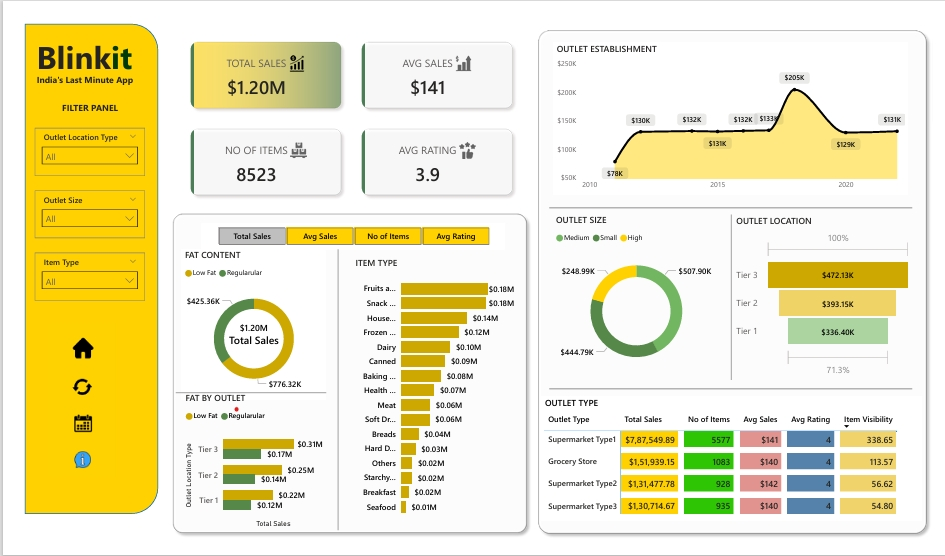

Layout of this report page (visuals, bound fields, positions):
{"tool":"powerbi","page":{"name":"Page 1","canvas":[1400,800],"ordinal":0},"visuals":[{"type":"shape","box":[10.5,10.5,204.1,750.4],"z":0},{"type":"textbox","box":[24,22.5,169.6,75],"z":1000},{"type":"textbox","box":[24,82.5,175.6,28.5],"z":2000},{"type":"cardVisual","fields":{"Data":["BlinkIT Grocery Data.Total Sales","BlinkIT Grocery Data.Avg Sales","BlinkIT Grocery Data.No of Items","BlinkIT Grocery Data.Avg Rating"]},"box":[248.1,21.8,527.6,269.9],"z":3000},{"type":"shape","box":[229,293.1,559,505.8],"z":4000},{"type":"donutChart","title":"FAT CONTENT","fields":{"Y":["BlinkIT Grocery Data.Total Sales"],"Category":["BlinkIT Grocery Data.Item Fat Content"]},"box":[250.7,356,221,229.9],"z":5000},{"type":"slicer","fields":{"Values":["Metrics.Metrics"]},"box":[281.8,316,464.3,40.1],"z":6000},{"type":"cardVisual","fields":{"Data":["BlinkIT Grocery Data.Total Sales"]},"box":[304.1,449.5,115.7,66.8],"z":7000},{"type":"clusteredBarChart","title":"FAT BY OUTLET","fields":{"Y":["BlinkIT Grocery Data.Total Sales"],"Category":["BlinkIT Grocery Data.Outlet Location Type"],"Series":["BlinkIT Grocery Data.Item Fat Content"]},"box":[252.2,575.3,219.5,211.3],"z":8000},{"type":"shape","box":[241.8,544.4,229.9,62.3],"z":9000},{"type":"shape","box":[446.5,356,89,430.2],"z":10000},{"type":"barChart","title":"ITEM TYPE","fields":{"Y":["BlinkIT Grocery Data.Total Sales"],"Category":["BlinkIT Grocery Data.Item Type"]},"box":[511.8,367.9,253.7,405],"z":11000},{"type":"shape","box":[788,12.3,612.1,788],"z":12000},{"type":"lineChart","title":"OUTLET ESTABLISHMENT","fields":{"Category":["BlinkIT Grocery Data.Outlet Establishment Year"],"Y":["BlinkIT Grocery Data.Total Sales"]},"box":[820.3,40.1,542.9,234.4],"z":13000},{"type":"shape","box":[813.9,261.8,554.9,61.4],"z":14000},{"type":"donutChart","title":"OUTLET SIZE","fields":{"Y":["BlinkIT Grocery Data.Total Sales"],"Category":["BlinkIT Grocery Data.Outlet Size"]},"box":[818.5,302.1,256.3,253.6],"z":15000},{"type":"shape","box":[1048.4,302.7,88.6,253.6],"z":16000},{"type":"funnel","title":"OUTLET LOCATION","fields":{"Category":["BlinkIT Grocery Data.Outlet Location Type"],"Y":["BlinkIT Grocery Data.Total Sales"]},"box":[1094.8,302.7,276.8,253.6],"z":17000},{"type":"shape","box":[813.9,538.5,554.9,61.4],"z":18000},{"type":"pivotTable","title":"OUTLET TYPE","fields":{"Values":["BlinkIT Grocery Data.Total Sales","BlinkIT Grocery Data.No of Items","BlinkIT Grocery Data.Avg Sales","BlinkIT Grocery Data.Avg Rating","Sum(BlinkIT Grocery Data.Item Visibility)"],"Rows":["BlinkIT Grocery Data.Outlet Type"]},"box":[801.6,582.1,582.1,190.9],"z":19000},{"type":"slicer","fields":{"Values":["BlinkIT Grocery Data.Outlet Location Type"]},"box":[25.6,170.1,169.1,73.6],"z":20000},{"type":"slicer","fields":{"Values":["BlinkIT Grocery Data.Outlet Size"]},"box":[25.6,265.6,169.1,73.6],"z":21000},{"type":"slicer","fields":{"Values":["BlinkIT Grocery Data.Item Type"]},"box":[25.6,361,169.1,73.6],"z":22000},{"type":"textbox","box":[62.7,125.4,152.7,32.7],"z":23000},{"type":"image","box":[43.6,436.3,299.9,299.9],"z":23001}]}

Visuals, with their boxes in screenshot pixels (x1, y1, x2, y2), scaled from the page's 1400x800 canvas onto the 945x556 screenshot:
shape: locate(7, 7, 145, 529)
textbox: locate(16, 16, 131, 68)
textbox: locate(16, 57, 135, 77)
cardVisual - BlinkIT Grocery Data.Total Sales x BlinkIT Grocery Data.Avg Sales: locate(167, 15, 524, 203)
shape: locate(155, 204, 532, 555)
"FAT CONTENT" donutChart: locate(169, 247, 318, 407)
slicer - Metrics.Metrics: locate(190, 220, 504, 247)
cardVisual - BlinkIT Grocery Data.Total Sales: locate(205, 312, 283, 359)
"FAT BY OUTLET" clusteredBarChart: locate(170, 400, 318, 547)
shape: locate(163, 378, 318, 422)
shape: locate(301, 247, 361, 546)
"ITEM TYPE" barChart: locate(345, 256, 517, 537)
shape: locate(532, 9, 944, 555)
"OUTLET ESTABLISHMENT" lineChart: locate(554, 28, 920, 191)
shape: locate(549, 182, 924, 225)
"OUTLET SIZE" donutChart: locate(552, 210, 725, 386)
shape: locate(708, 210, 767, 387)
"OUTLET LOCATION" funnel: locate(739, 210, 926, 387)
shape: locate(549, 374, 924, 417)
"OUTLET TYPE" pivotTable: locate(541, 405, 934, 537)
slicer - BlinkIT Grocery Data.Outlet Location Type: locate(17, 118, 131, 169)
slicer - BlinkIT Grocery Data.Outlet Size: locate(17, 185, 131, 236)
slicer - BlinkIT Grocery Data.Item Type: locate(17, 251, 131, 302)
textbox: locate(42, 87, 145, 110)
image: locate(29, 303, 232, 512)
